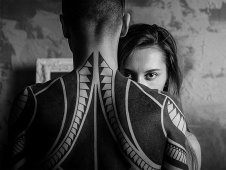female: (123, 35, 178, 97)
